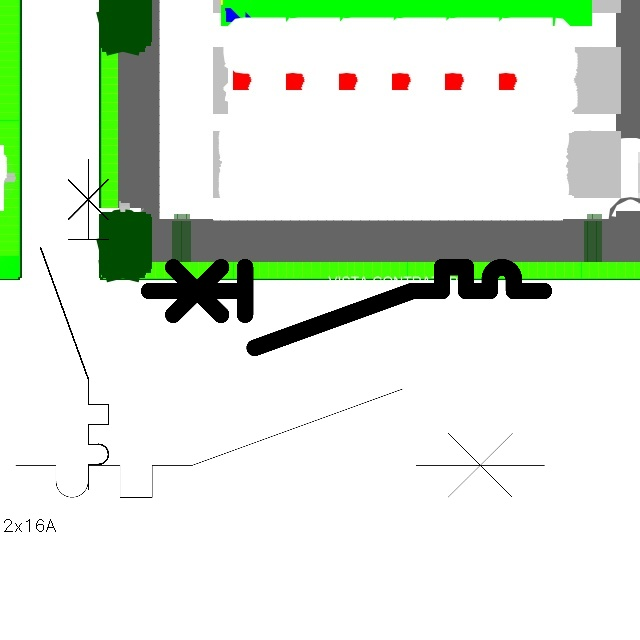interruptor_termomagnetico: (2, 375, 558, 511), (139, 257, 554, 358), (32, 151, 117, 498)
